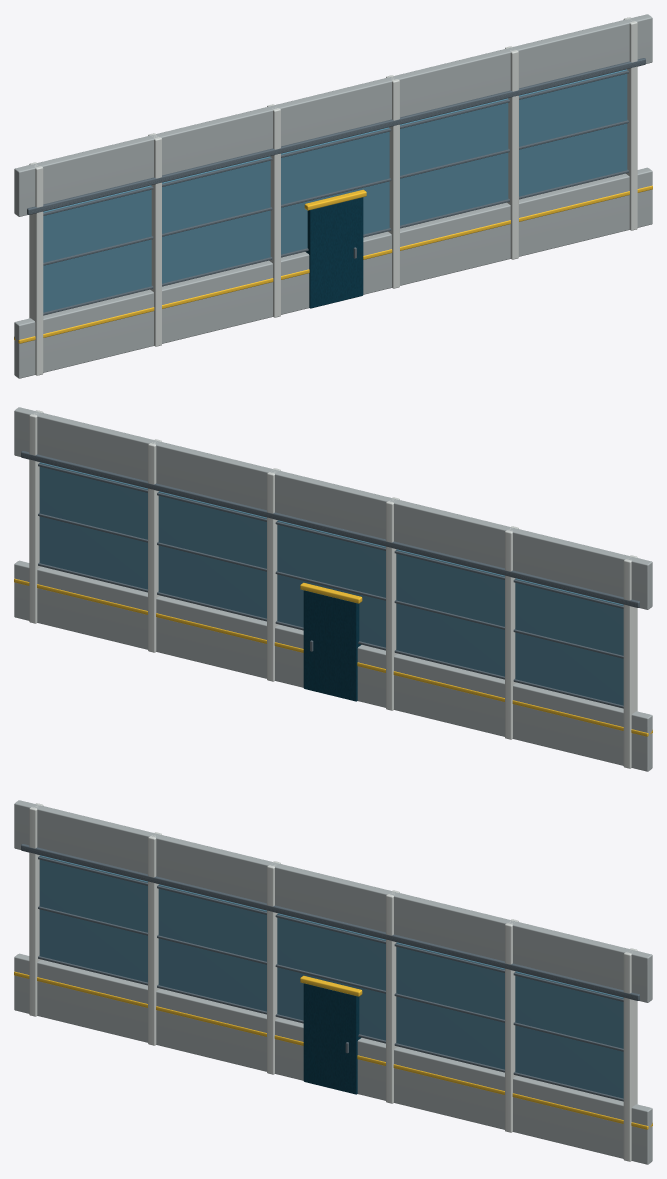
The model's file is wall-n.gltf.
3 renders of one model, top to bottom at view 1: azimuth 30°, elevation 25°; view 2: azimuth 150°, elevation 25°; view 3: azimuth 330°, elevation 25°, orthographic.
Visible parts, largest first — view 1: wall-n; view 2: wall-n; view 3: wall-n.
Part boxes in pixels (x1,y1,x2,y2): wall-n: [14, 14, 652, 378]; wall-n: [14, 407, 652, 771]; wall-n: [14, 800, 652, 1164].
Bounding box in the file's own units: 16 × 5 × 0.4.
6 materials, 2 textured.
